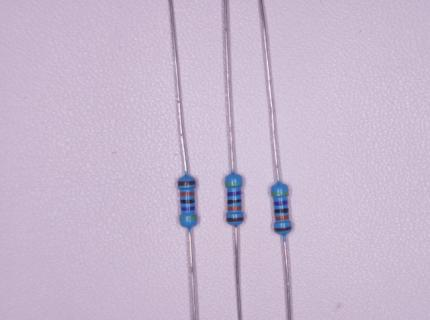Black band: (181, 199, 195, 204), (274, 208, 288, 213), (228, 200, 241, 205)
Brown band: (178, 181, 196, 186), (274, 227, 291, 232), (227, 217, 244, 222)
Orange band: (275, 215, 289, 220), (180, 192, 194, 196), (228, 206, 241, 210)
Violet band: (227, 191, 241, 196), (274, 200, 288, 205), (181, 206, 195, 210)
Yellow band: (271, 191, 288, 196), (180, 216, 197, 220), (226, 183, 242, 186)
